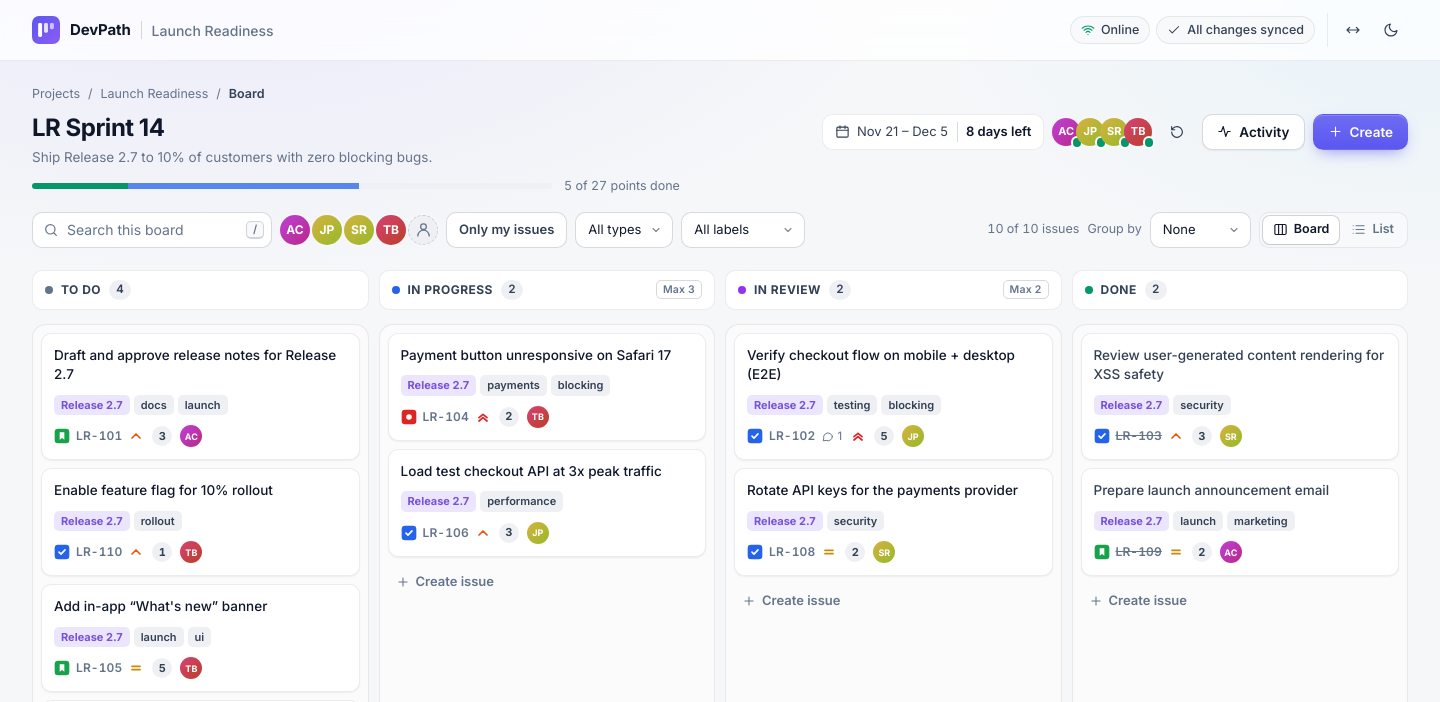
Test: Board › filters with quick filters and clears them
This screenshot has width=1440, height=702.
Click the button "Only my issues": (507, 230) x1=446 y1=212 x2=567 y2=248
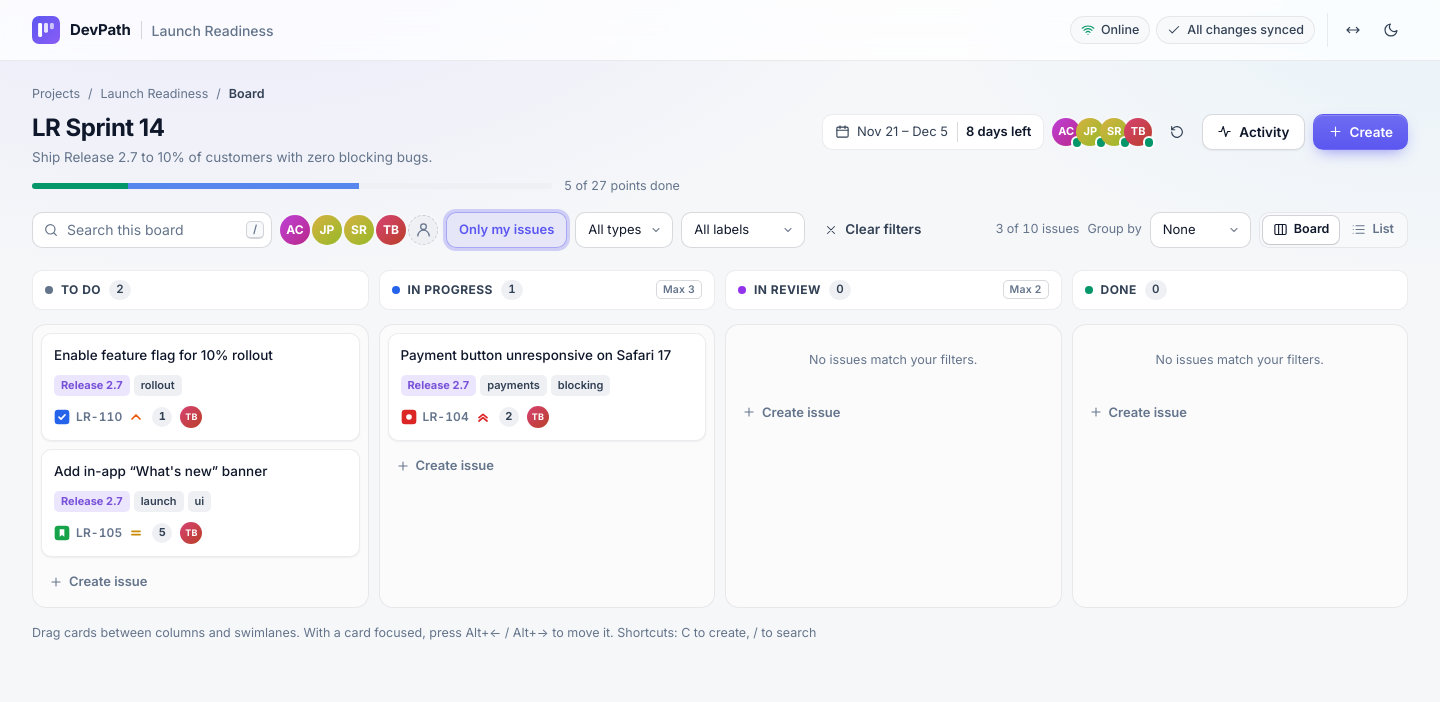
Expected: the text "3 of 10 issues" is shown, x1=995 y1=220 x2=1079 y2=239
Click the button "Clear filters": (873, 230) x1=813 y1=214 x2=932 y2=246
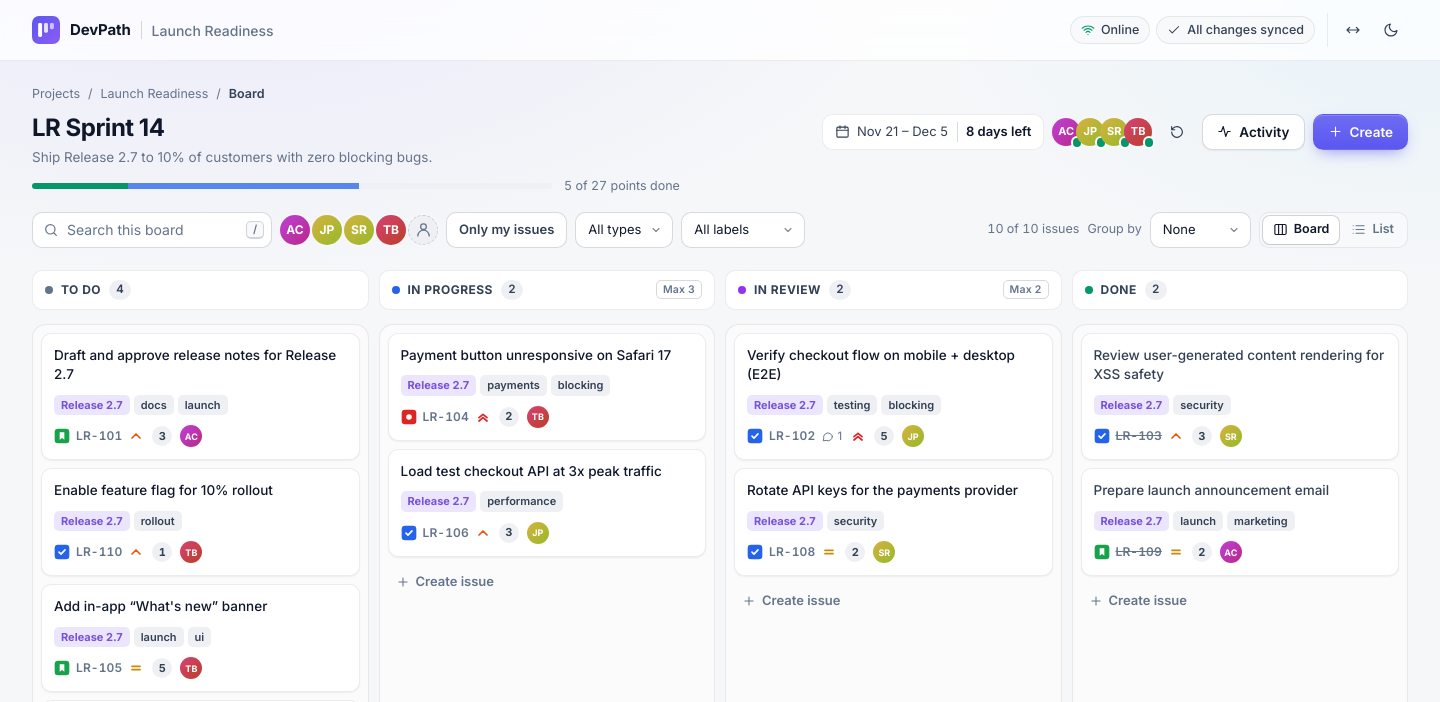
Click the button with aria-label "Filter by Jordan Park": (327, 230) x1=312 y1=214 x2=342 y2=244
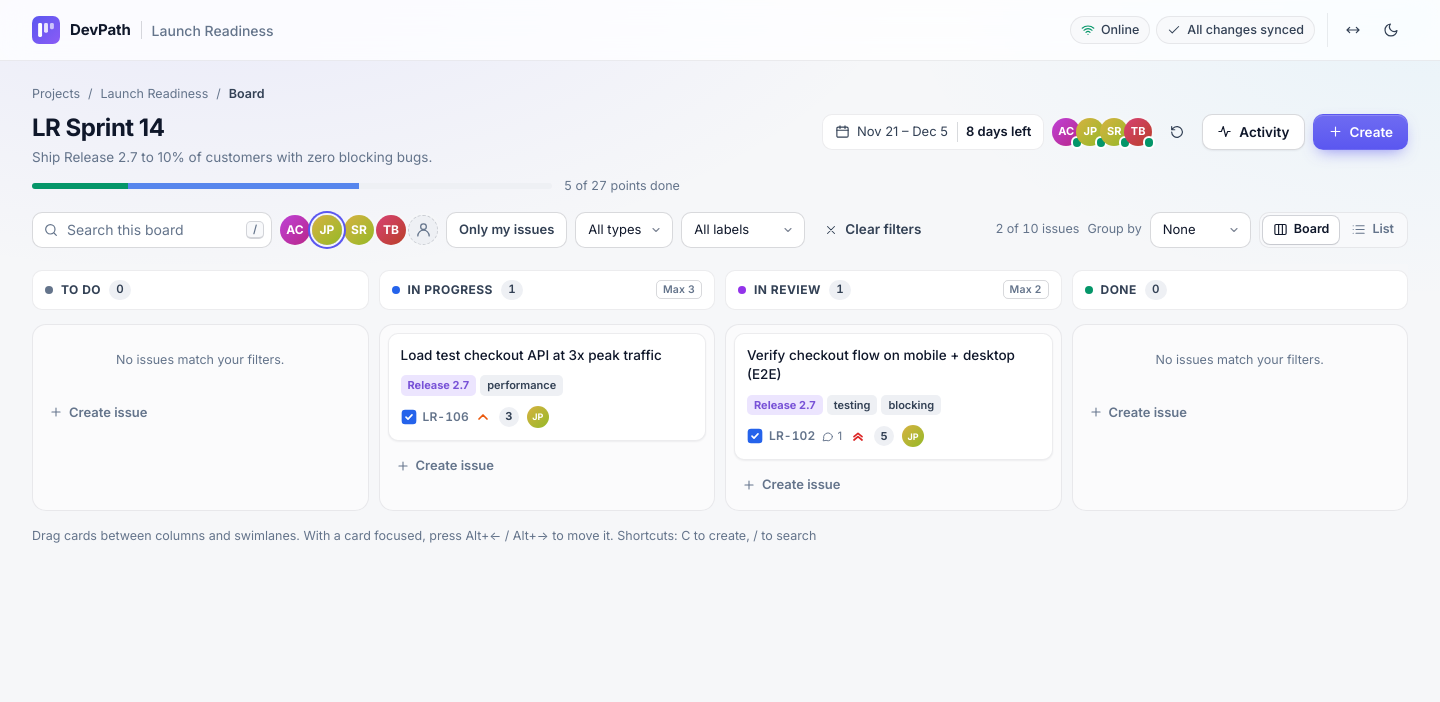
Expected: the text "2 of 10 issues" is shown, x1=995 y1=220 x2=1079 y2=239
Click the button "Clear filters": (873, 230) x1=813 y1=214 x2=932 y2=246
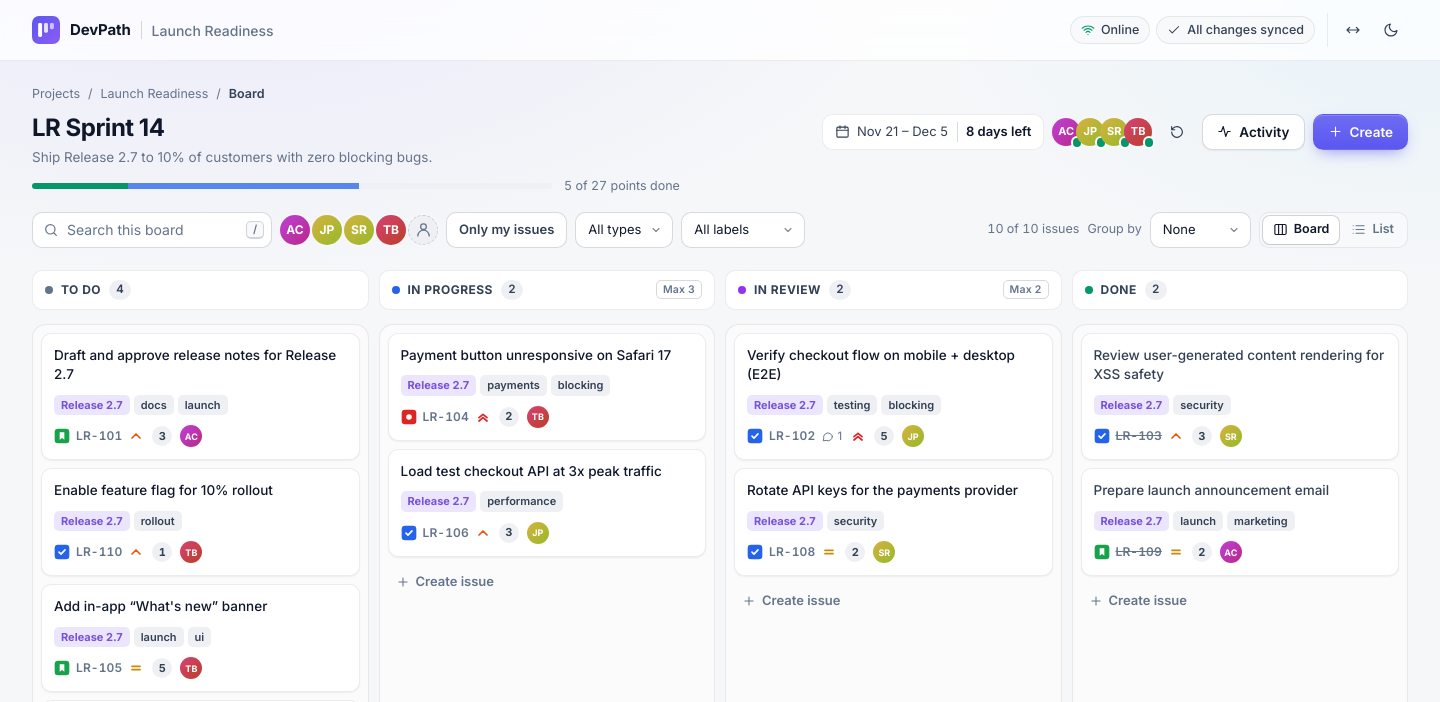
Select "Bug" in the 1st dropdown named "Type": (624, 230) x1=575 y1=212 x2=673 y2=248
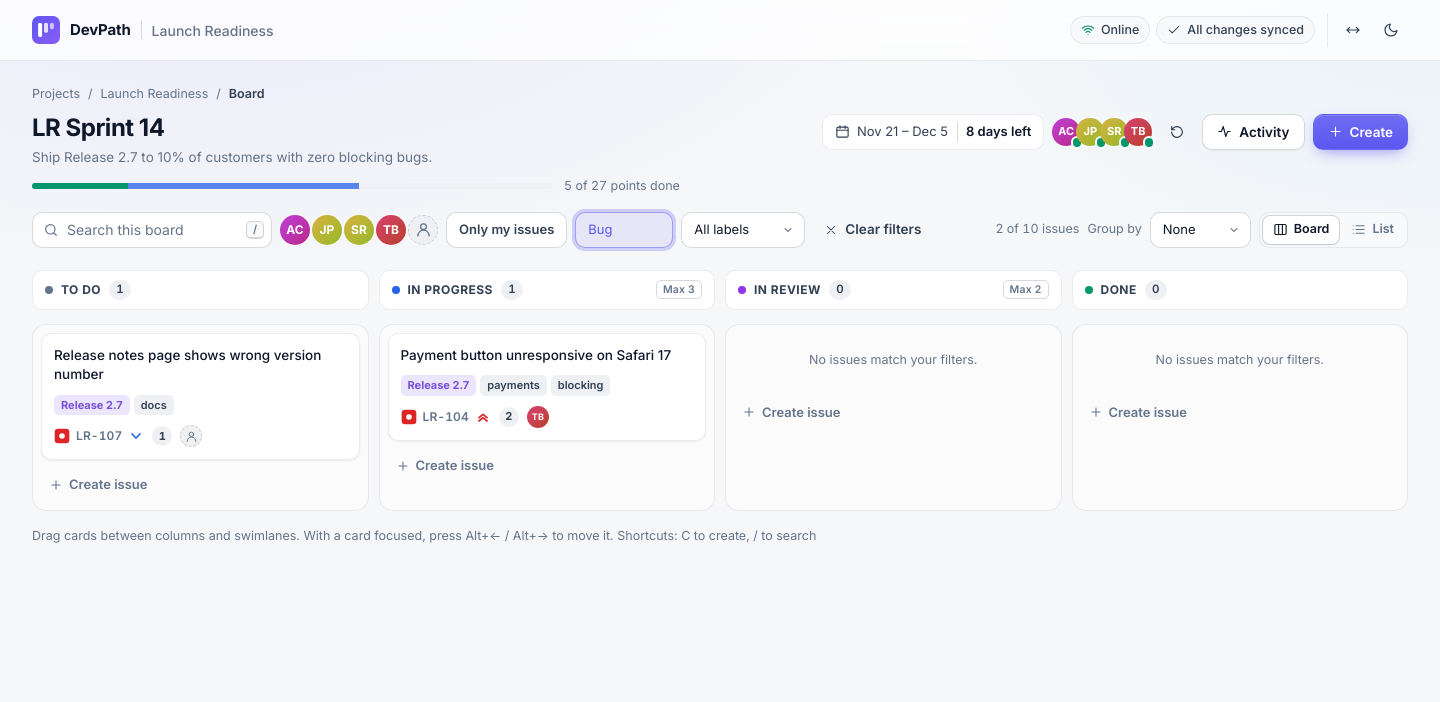
Expected: the text "2 of 10 issues" is shown, x1=995 y1=220 x2=1079 y2=239
